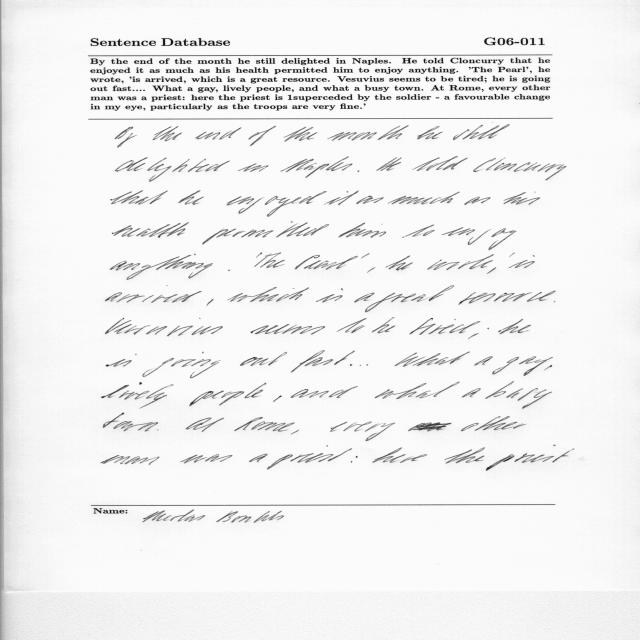word: (202, 222, 329, 245), (116, 157, 230, 182), (110, 254, 213, 280), (226, 191, 327, 217), (365, 286, 454, 313), (486, 445, 574, 471), (473, 158, 566, 181), (267, 445, 352, 470), (106, 318, 223, 336), (143, 352, 221, 378), (102, 382, 174, 409), (408, 416, 526, 432), (486, 381, 553, 409), (189, 383, 266, 406), (105, 285, 202, 303), (442, 227, 517, 250), (280, 156, 353, 178), (427, 253, 515, 270), (458, 290, 556, 305), (375, 382, 460, 399), (291, 351, 355, 373), (327, 125, 409, 141), (330, 422, 395, 441), (112, 222, 189, 238), (228, 287, 310, 302), (492, 356, 553, 376), (410, 318, 481, 335), (104, 413, 159, 431), (387, 192, 460, 205), (295, 255, 358, 270), (234, 417, 295, 432), (373, 447, 428, 463), (453, 125, 510, 140), (111, 190, 168, 205), (412, 156, 468, 171), (251, 324, 326, 335), (290, 386, 358, 398), (413, 352, 470, 366), (339, 223, 387, 238), (444, 447, 485, 464), (240, 352, 287, 366), (195, 127, 241, 140), (101, 455, 159, 465), (248, 126, 276, 146), (186, 418, 224, 432), (284, 127, 318, 142), (498, 319, 531, 334), (324, 191, 359, 205), (180, 455, 233, 464), (504, 192, 540, 205), (254, 253, 285, 268), (395, 352, 426, 367), (115, 127, 137, 148), (403, 224, 436, 238), (337, 318, 367, 333), (153, 126, 182, 141), (385, 256, 413, 271), (316, 288, 343, 303), (106, 354, 137, 367), (178, 190, 204, 205), (417, 126, 443, 140), (376, 157, 402, 171), (372, 318, 395, 333), (238, 163, 269, 172), (468, 328, 489, 339), (356, 196, 384, 204), (464, 197, 491, 205), (354, 293, 375, 303), (509, 260, 535, 268), (474, 356, 493, 366), (462, 388, 481, 398), (249, 454, 268, 462), (487, 267, 496, 274), (273, 396, 282, 403), (367, 267, 376, 273), (207, 299, 214, 306), (351, 456, 357, 463), (361, 254, 369, 259), (544, 365, 552, 370), (350, 364, 368, 366), (291, 430, 299, 434), (256, 253, 262, 258), (357, 170, 360, 172), (228, 269, 230, 271), (533, 255, 535, 257), (554, 301, 556, 302), (157, 430, 158, 430)
